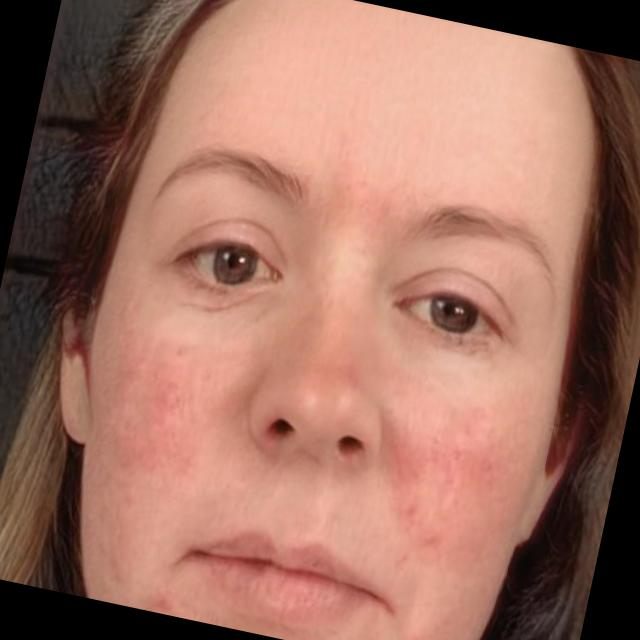redness: (380, 408, 519, 586), (107, 351, 213, 489)
